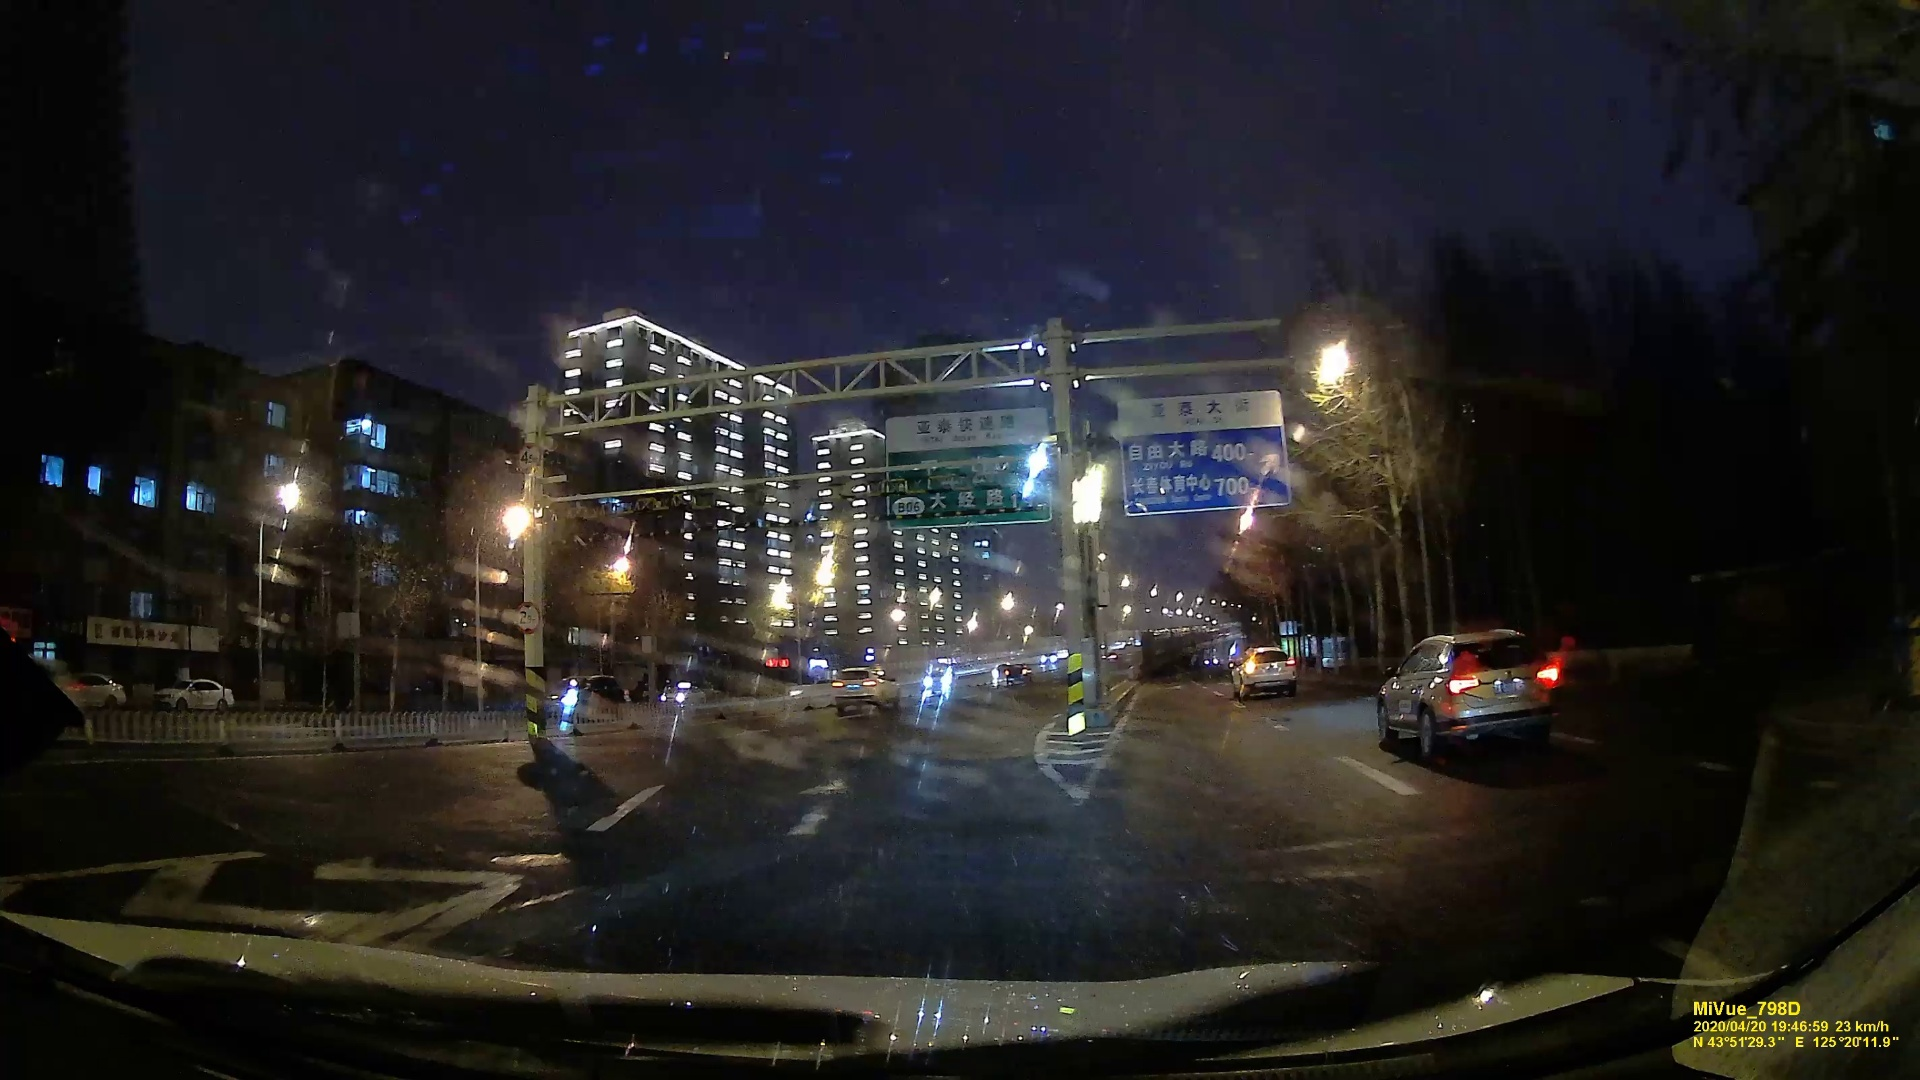traffic_sign: (1122, 398, 1284, 508), (891, 415, 1050, 525)
vehicle: (1373, 632, 1559, 754), (535, 674, 636, 723), (1233, 646, 1302, 699), (828, 666, 899, 713), (146, 678, 229, 709)
